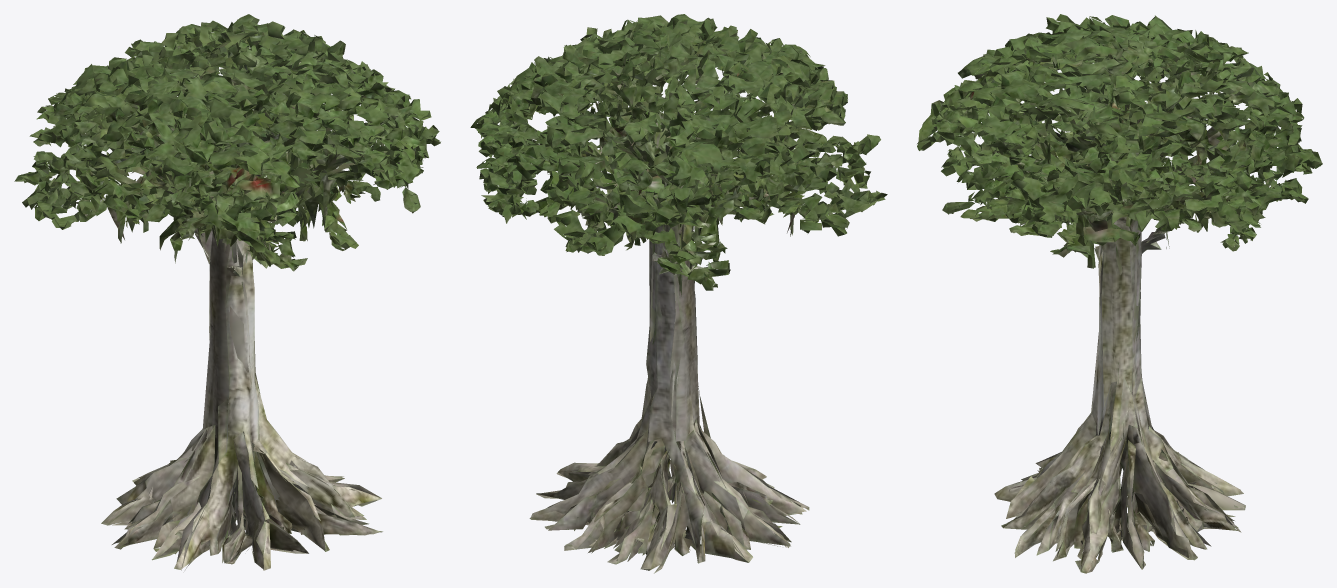
The model's file is kapok.glb.
3 views of the same model, side by side, from view 1: azimuth 30°, elevation 25°; view 2: azimuth 150°, elevation 25°; view 3: azimuth 270°, elevation 25° (orthographic).
Parts seen in each view (by area): view 1: lod0; view 2: lod0; view 3: lod0.
Part boxes in pixels (x1=…): lod0: x1=14, y1=14, x2=440, y2=570; lod0: x1=470, y1=14, x2=887, y2=573; lod0: x1=917, y1=14, x2=1322, y2=573.
Size of what is drawn, in the model's own units: 12.76 by 15.15 by 12.08.
Materials: 1 (1 with a texture image).
